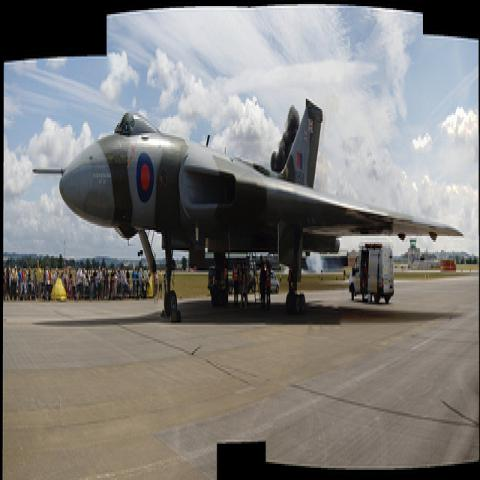truck: (348, 245, 394, 308)
